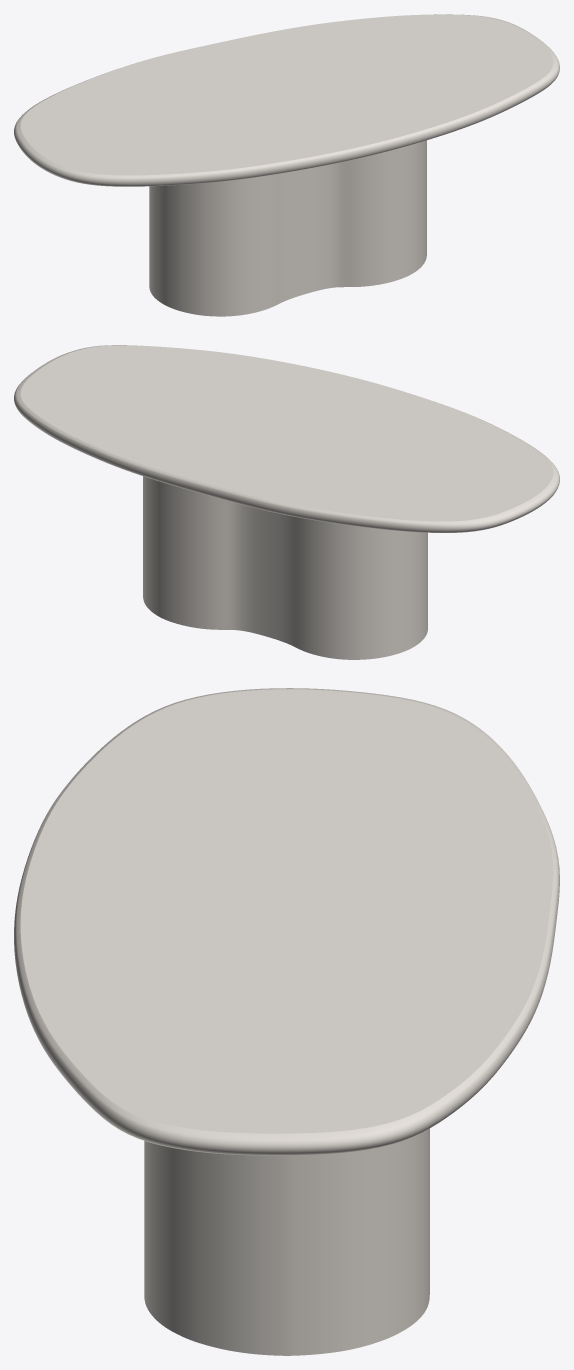
File: pearlwhite_danish_round_riverwave.glb
The picture shows the model from 3 angles, top to bottom: view 1: azimuth 30°, elevation 25°; view 2: azimuth 150°, elevation 25°; view 3: azimuth 270°, elevation 25°; orthographic projection. The views are drawn at different scales.
Parts seen in each view (by area): view 1: round_danish, riverwave; view 2: round_danish, riverwave; view 3: round_danish, riverwave.
Boxes of the visible parts, x1,y1,x2,y2 form: round_danish: [14, 14, 559, 186]; riverwave: [149, 140, 426, 316]; round_danish: [14, 345, 559, 532]; riverwave: [143, 476, 427, 659]; round_danish: [14, 688, 559, 1155]; riverwave: [144, 1128, 429, 1355].
Bounding box in the file's own units: 7.5 × 2.5 × 3.8.
Materials: 1 (1 with a texture image).
